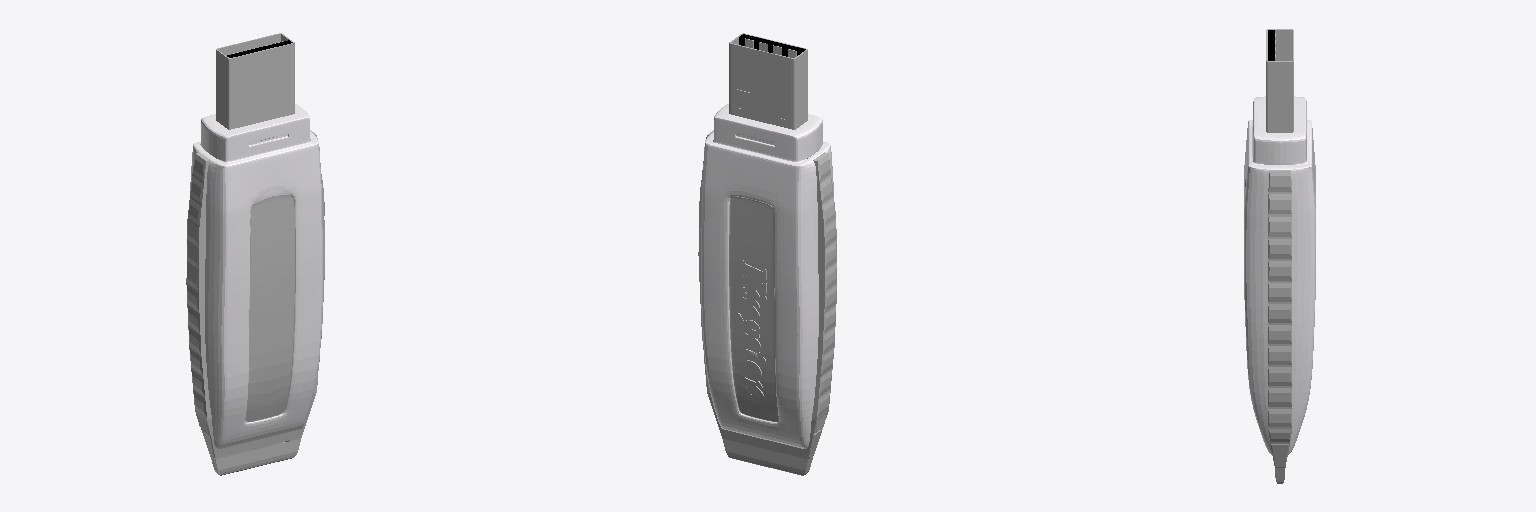
3 renders of one model, left to right at view 1: azimuth 30°, elevation 25°; view 2: azimuth 150°, elevation 25°; view 3: azimuth 270°, elevation 25°, orthographic.
Parts seen in each view (by area): view 1: Blue_body, Blue_body.005, Blue_body.001, Blue_body.003; view 2: Blue_body, Blue_body.001, Blue_body.003, Blue_body.002; view 3: Blue_body, Blue_body.001, Blue_body.003.
Boxes of the visible parts, box(x1,y1,x2,y2) form: Blue_body: box(190, 104, 322, 448); Blue_body.005: box(245, 195, 294, 422); Blue_body.001: box(186, 130, 324, 475); Blue_body.003: box(216, 33, 294, 129); Blue_body: box(701, 104, 833, 448); Blue_body.001: box(698, 130, 836, 475); Blue_body.003: box(729, 33, 807, 129); Blue_body.002: box(734, 216, 768, 249); Blue_body: box(1244, 96, 1315, 455); Blue_body.001: box(1268, 170, 1291, 483); Blue_body.003: box(1266, 29, 1293, 132).
Bounding box in the file's own units: 0.2384 × 0.7468 × 0.1167.
7 materials, 1 textured.